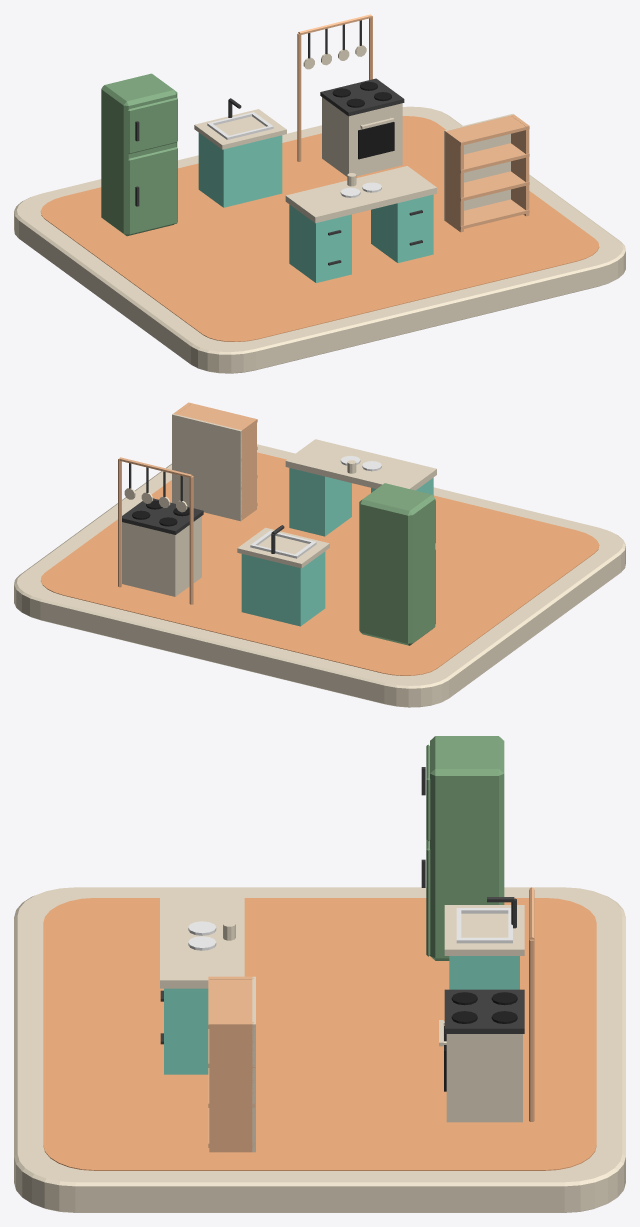
3 views of the same model, one above another, from view 1: azimuth 30°, elevation 25°; view 2: azimuth 150°, elevation 25°; view 3: azimuth 270°, elevation 25° (orthographic). The views are drawn at different scales.
Parts seen in each view (by area): view 1: COM-02 Floor Surface, COM-01 Rounded Base Direct, Cabinet, Cabinet.001, Worktop, Stove, Door, Storage module, Storage module.001, Door.001, Counter, Back (+9 smaller); view 2: COM-02 Floor Surface, COM-01 Rounded Base Direct, Cabinet, Back, Cabinet.001, Stove, Worktop, Storage module.001, Counter, Side, Hob, Shelf.003 (+2 smaller); view 3: COM-02 Floor Surface, COM-01 Rounded Base Direct, Cabinet, Stove, Worktop, Side.001, Storage module.001, Counter, Hob, Cabinet.001, Shelf.003, Post.001 (+1 smaller).
Part boxes in pixels (left/top/right/bottom): COM-02 Floor Surface: left=40, top=116, right=599, bottom=341; COM-01 Rounded Base Direct: left=14, top=106, right=625, bottom=373; Cabinet: left=101, top=73, right=177, bottom=236; Cabinet.001: left=198, top=133, right=282, bottom=207; Worktop: left=285, top=166, right=436, bottom=223; Stove: left=322, top=97, right=402, bottom=176; Door: left=128, top=147, right=177, bottom=234; Storage module: left=289, top=204, right=351, bottom=282; Storage module.001: left=371, top=194, right=433, bottom=262; Door.001: left=128, top=97, right=177, bottom=153; Counter: left=194, top=109, right=286, bottom=149; Back: left=444, top=114, right=513, bottom=220; COM-02 Floor Surface: left=40, top=452, right=599, bottom=675; COM-01 Rounded Base Direct: left=14, top=444, right=625, bottom=707; Cabinet: left=359, top=483, right=435, bottom=645; Back: left=172, top=413, right=241, bottom=521; Cabinet.001: left=241, top=551, right=325, bottom=626; Stove: left=122, top=516, right=201, bottom=596; Worktop: left=285, top=439, right=436, bottom=490; Storage module.001: left=289, top=468, right=351, bottom=536; Counter: left=237, top=527, right=329, bottom=568; Side: left=239, top=418, right=256, bottom=520; Hob: left=122, top=498, right=203, bottom=534; Shelf.003: left=177, top=402, right=257, bottom=433; COM-02 Floor Surface: left=43, top=898, right=596, bottom=1170; COM-01 Rounded Base Direct: left=14, top=887, right=625, bottom=1212; Cabinet: left=430, top=736, right=504, bottom=960; Stove: left=446, top=1034, right=522, bottom=1122; Worktop: left=160, top=895, right=244, bottom=988; Side.001: left=209, top=1022, right=253, bottom=1152; Storage module.001: left=164, top=988, right=208, bottom=1074; Counter: left=444, top=905, right=524, bottom=955; Hob: left=444, top=989, right=524, bottom=1033; Cabinet.001: left=449, top=956, right=519, bottom=989; Shelf.003: left=208, top=976, right=254, bottom=1028; Post.001: left=529, top=939, right=534, bottom=1121.
Size of the model in its own units: 6 by 2.1 by 5.2.
1 material, 1 textured.
